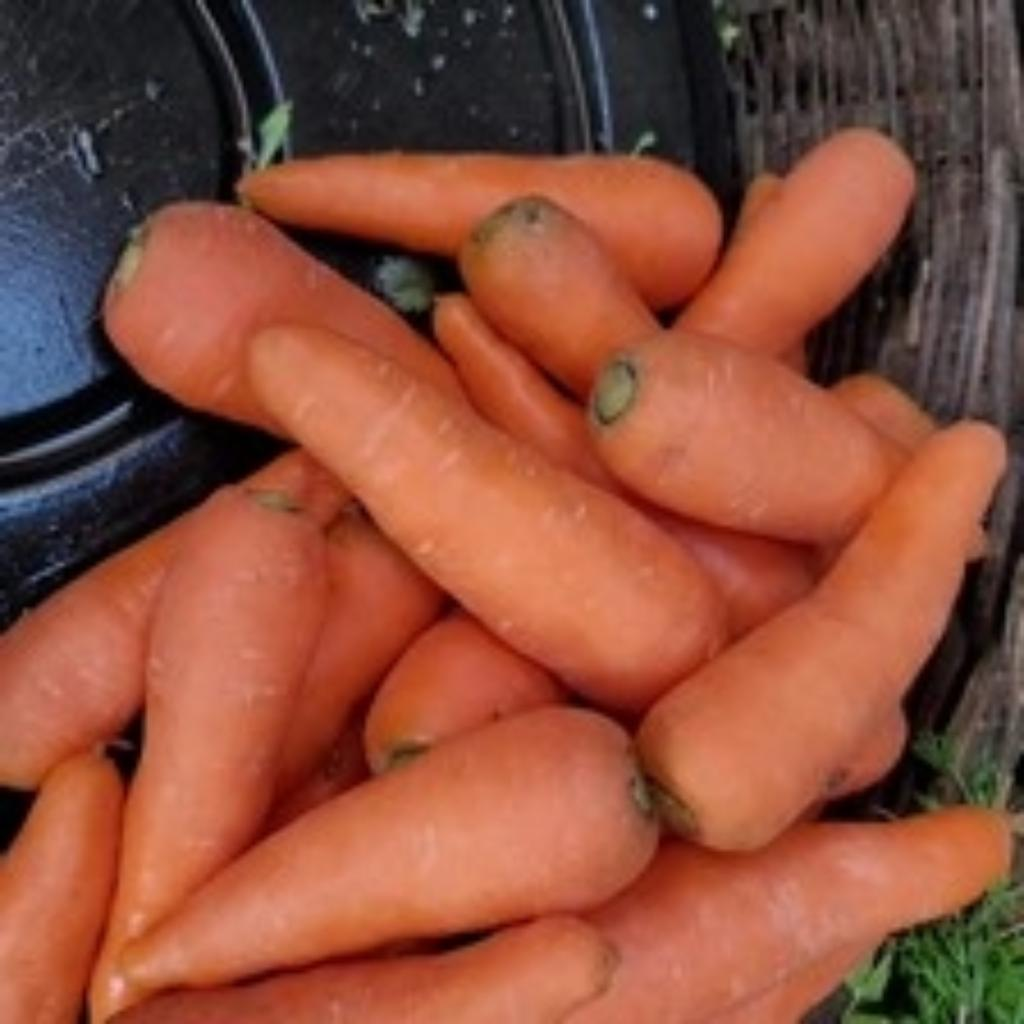carrot: (0, 128, 1001, 1015)
